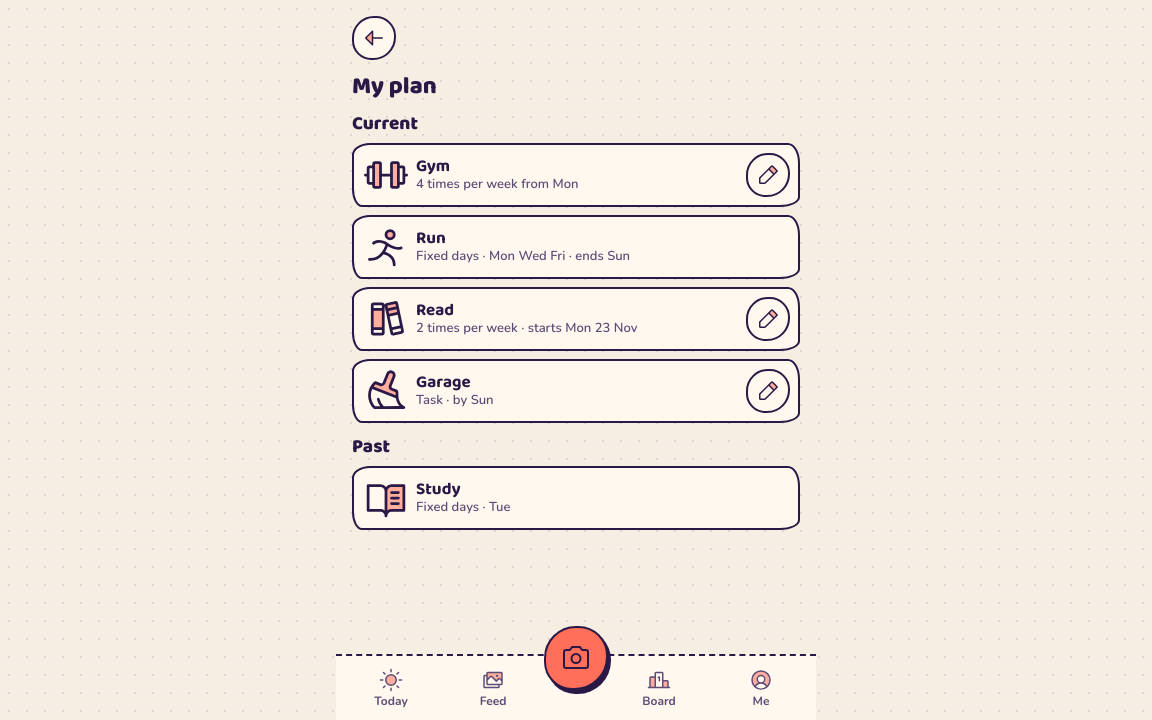
Test case: My plan › Edit on a task opens the task edit mode
This screenshot has width=1152, height=720.
Click the button named "Edit Garage".
click(768, 391)  # box x1=746 y1=369 x2=790 y2=413
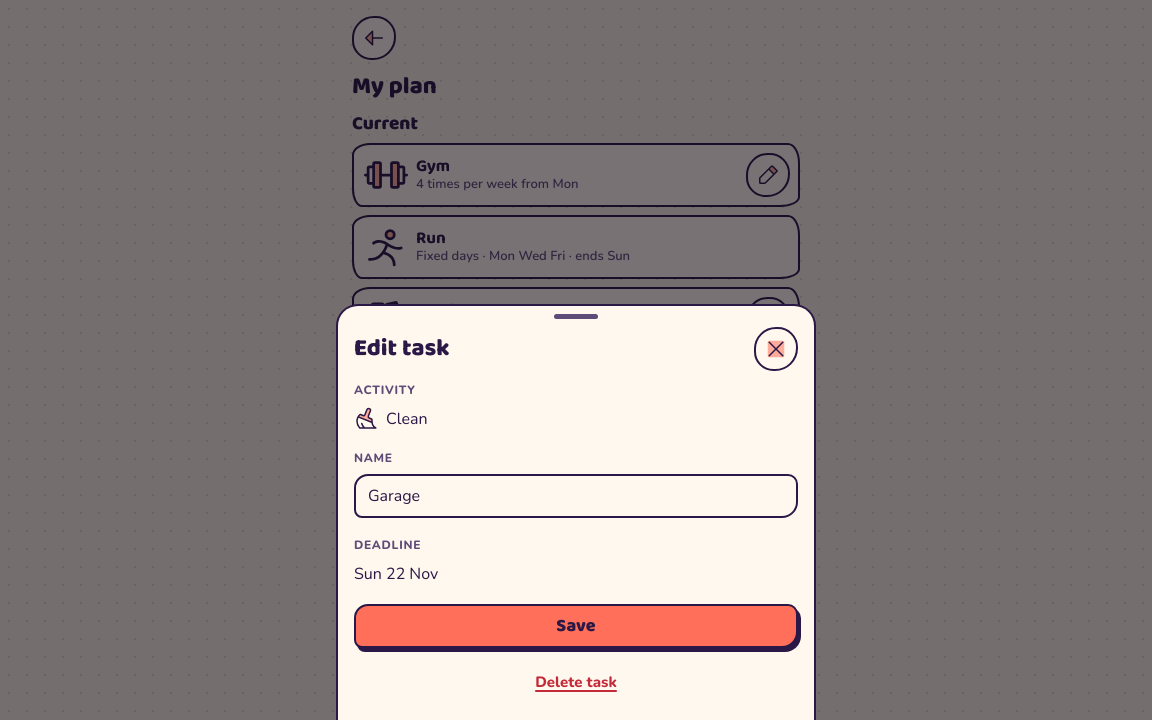
Result: the field labelled "Name" holds "Garage" at x1=354 y1=474 x2=798 y2=518
